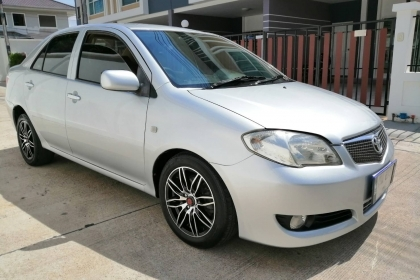sedan: (4, 22, 399, 249)
